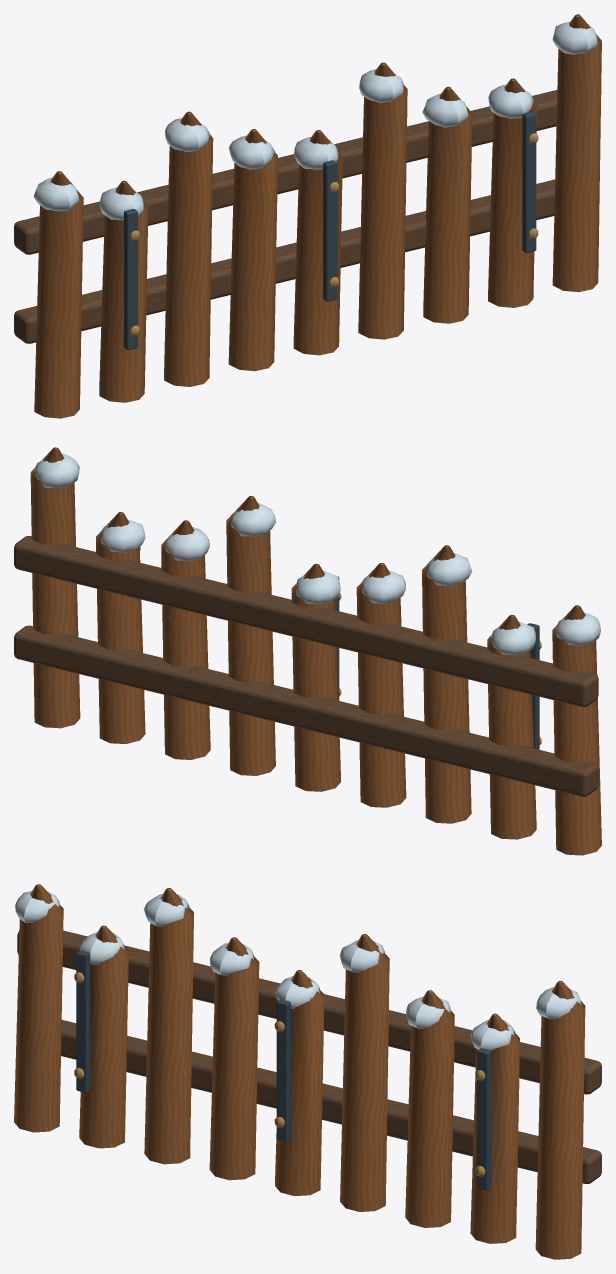
File: barricade.glb
The picture shows the model from 3 angles, top to bottom: view 1: azimuth 30°, elevation 25°; view 2: azimuth 150°, elevation 25°; view 3: azimuth 330°, elevation 25°; orthographic projection.
Visible parts, largest first — view 1: barricade; view 2: barricade; view 3: barricade.
Boxes of the visible parts, <box> form: barricade: <box>14,14,601,418</box>; barricade: <box>14,447,601,855</box>; barricade: <box>14,884,601,1259</box>.
Size of the model in its own units: 2.95 by 1.32 by 0.3453.
5 materials, 5 textured.
